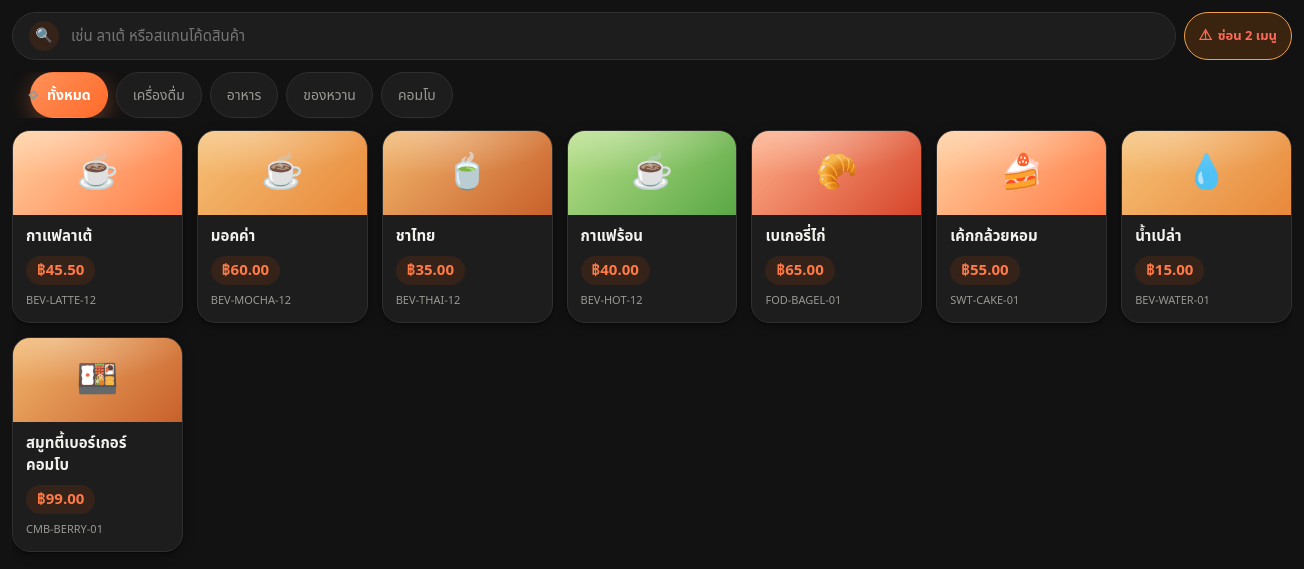
CatalogBrowser — the search box › lets the grid own the empty message rather than duplicating it
Step 1. Type "ไม่มีเมนูนี้จริงๆ" into the search field named "ค้นหาเมนู" → point(614, 36), box [69, 24, 1159, 48]
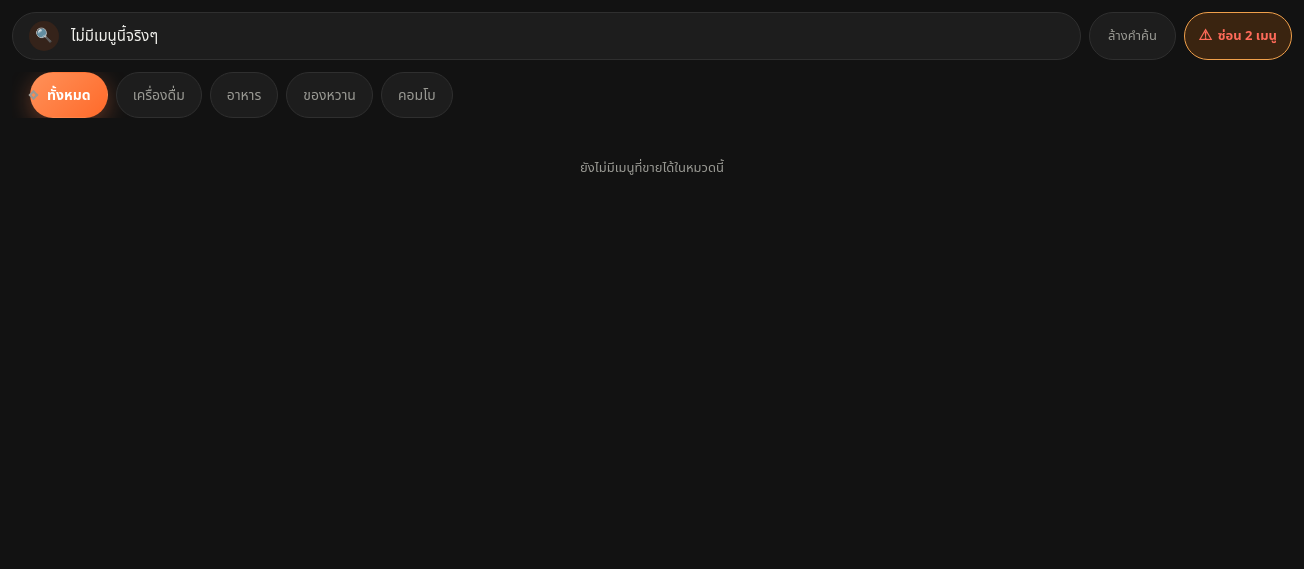
Expected: the text "ยังไม่มีเมนูที่ขายได้ในหมวดนี้" is shown once, [580, 158, 724, 178]
